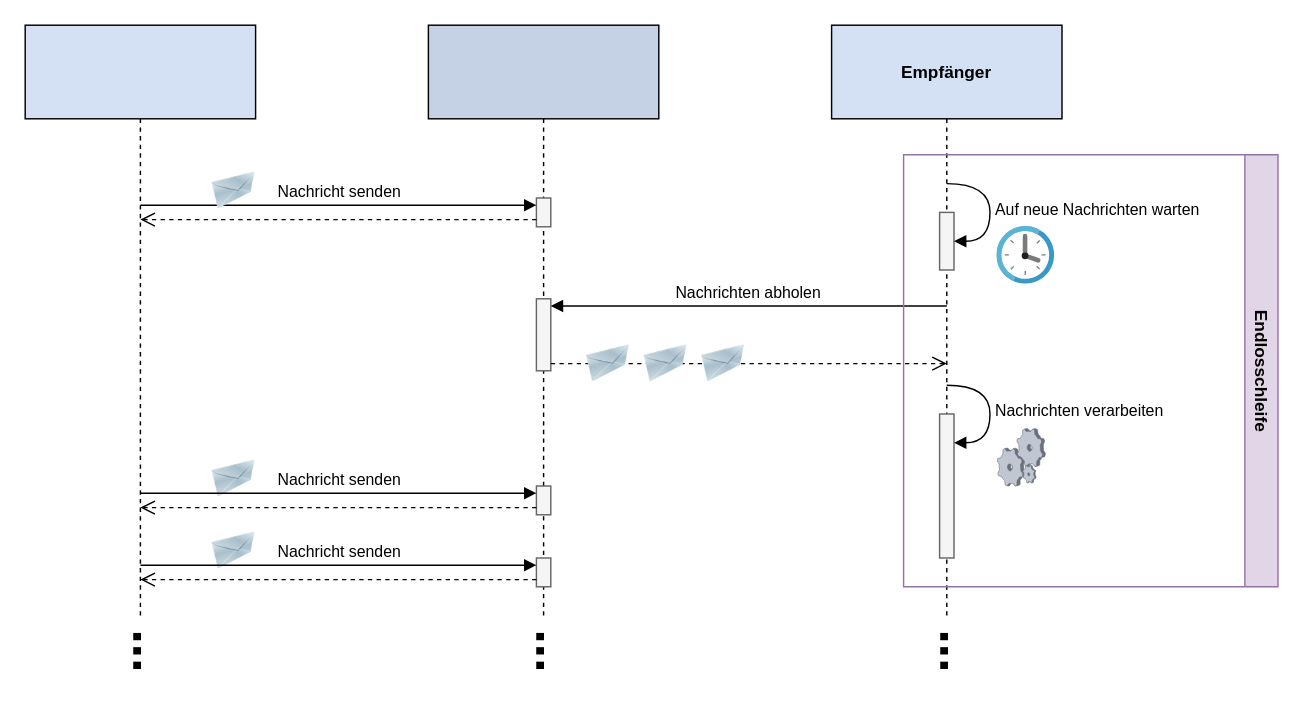
This 1303x713 diagram has some shape labels left out. The box of each missing label's shape, as (x1, y1, x2, y2) in pixels:
MessageQueue: (427, 24, 659, 616)
Sender: (24, 24, 256, 616)
